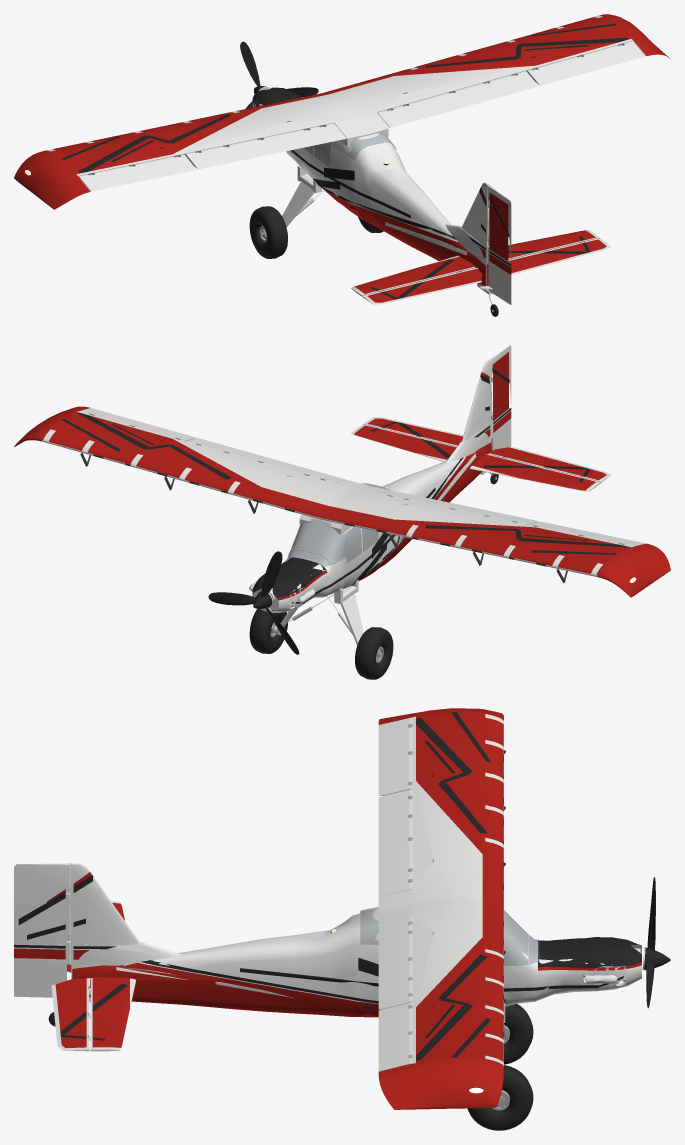
File: timber.glb
The picture shows the model from 3 angles, top to bottom: view 1: azimuth 30°, elevation 25°; view 2: azimuth 150°, elevation 25°; view 3: azimuth 270°, elevation 25°; orthographic projection. The views are drawn at different scales.
Parts seen in each view (by area): view 1: wing_left_fixed, fuselage_core, wing_right_fixed, elevator, flap_right, stabilizer_fixed, flap_left, rudder, aileron_right, aileron_left, fin_fixed, wheel_left (+4 smaller); view 2: wing_left_fixed, wing_right_fixed, fuselage_core, stabilizer_fixed, canopy_glass, elevator, rudder, fin_fixed, wheel_left, propeller_rotor, cowl, wheel_right (+5 smaller); view 3: fuselage_core, wing_right_fixed, wing_left_fixed, rudder, fin_fixed, flap_left, flap_right, stabilizer_fixed, elevator, aileron_left, cowl, wheel_right (+4 smaller).
Part boxes in pixels (box(x1,y1,x2,y2)): wing_left_fixed: box(14, 93, 368, 209); fuselage_core: box(266, 95, 492, 294); wing_right_fixed: box(322, 14, 670, 133); elevator: box(363, 238, 611, 304); flap_right: box(377, 71, 538, 127); stabilizer_fixed: box(351, 230, 599, 297); flap_left: box(184, 123, 346, 169); rudder: box(479, 185, 511, 304); aileron_right: box(526, 41, 645, 85); aileron_left: box(78, 154, 196, 191); fin_fixed: box(445, 182, 489, 289); wheel_left: box(249, 206, 287, 258); wing_left_fixed: box(318, 486, 670, 597); wing_right_fixed: box(14, 406, 368, 519); fuselage_core: box(279, 442, 491, 604); stabilizer_fixed: box(351, 424, 600, 491); canopy_glass: box(288, 483, 388, 567); elevator: box(363, 417, 611, 483); rudder: box(488, 345, 511, 451); fin_fixed: box(445, 361, 491, 474); wheel_left: box(355, 627, 393, 679); propeller_rotor: box(208, 551, 299, 654); cowl: box(249, 572, 315, 612); wheel_right: box(249, 608, 287, 653); fuselage_core: box(72, 908, 596, 1022); wing_right_fixed: box(378, 897, 505, 1109); wing_left_fixed: box(378, 708, 505, 910); rudder: box(14, 863, 71, 997); fin_fixed: box(68, 863, 180, 999); flap_left: box(378, 789, 412, 896); flap_right: box(378, 916, 412, 1009); stabilizer_fixed: box(88, 901, 136, 1051); elevator: box(51, 936, 90, 1051); aileron_left: box(378, 718, 412, 795); cowl: box(583, 937, 641, 991); wheel_right: box(467, 1065, 533, 1130).
Size of the model in its own units: 1.55 by 0.434 by 1.12.
